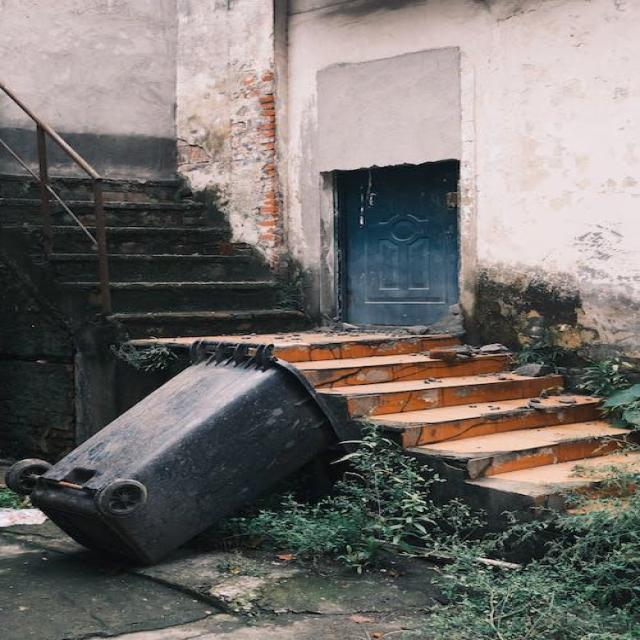plastic: (38, 370, 315, 558)
